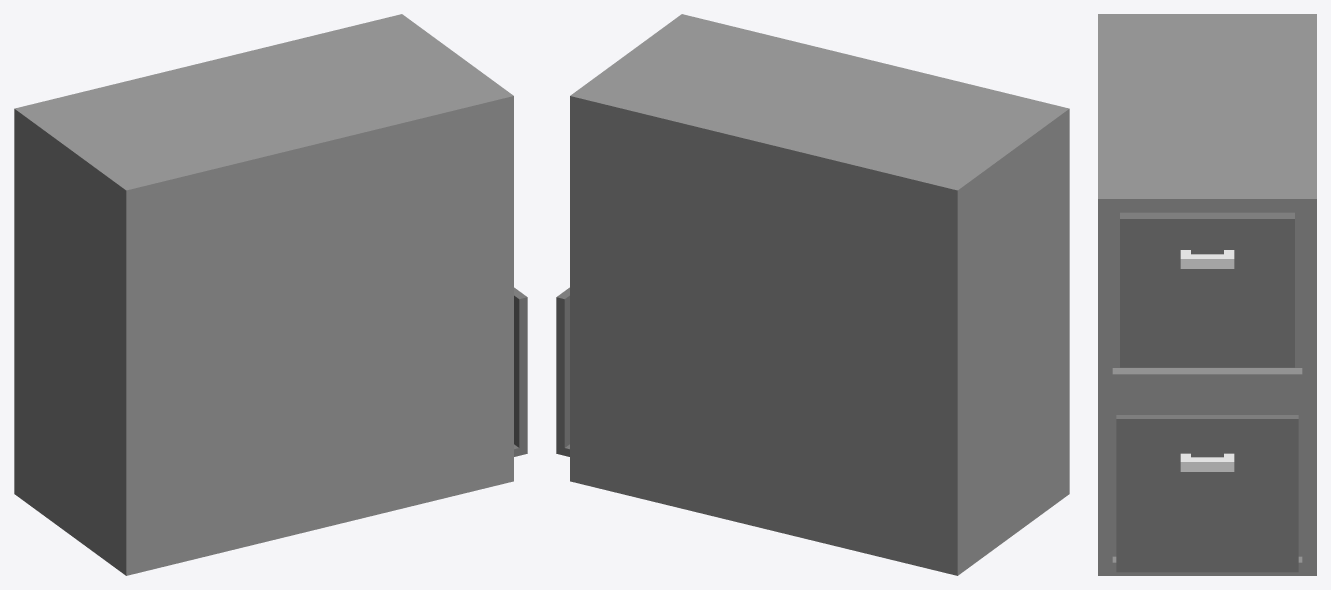
The model's file is Desk_Cabinet.fbx.
3 renders of one model, left to right at view 1: azimuth 30°, elevation 25°; view 2: azimuth 150°, elevation 25°; view 3: azimuth 270°, elevation 25°, orthographic. The views are drawn at different scales.
Visible parts, largest first — view 1: Cabinet; view 2: Cabinet; view 3: Cabinet.
Part boxes in pixels (<box>): Cabinet: <box>14,14,527,575</box>; Cabinet: <box>556,14,1069,575</box>; Cabinet: <box>1098,14,1316,575</box>.
Size of the model in its own units: 66.28 by 57 by 30.
